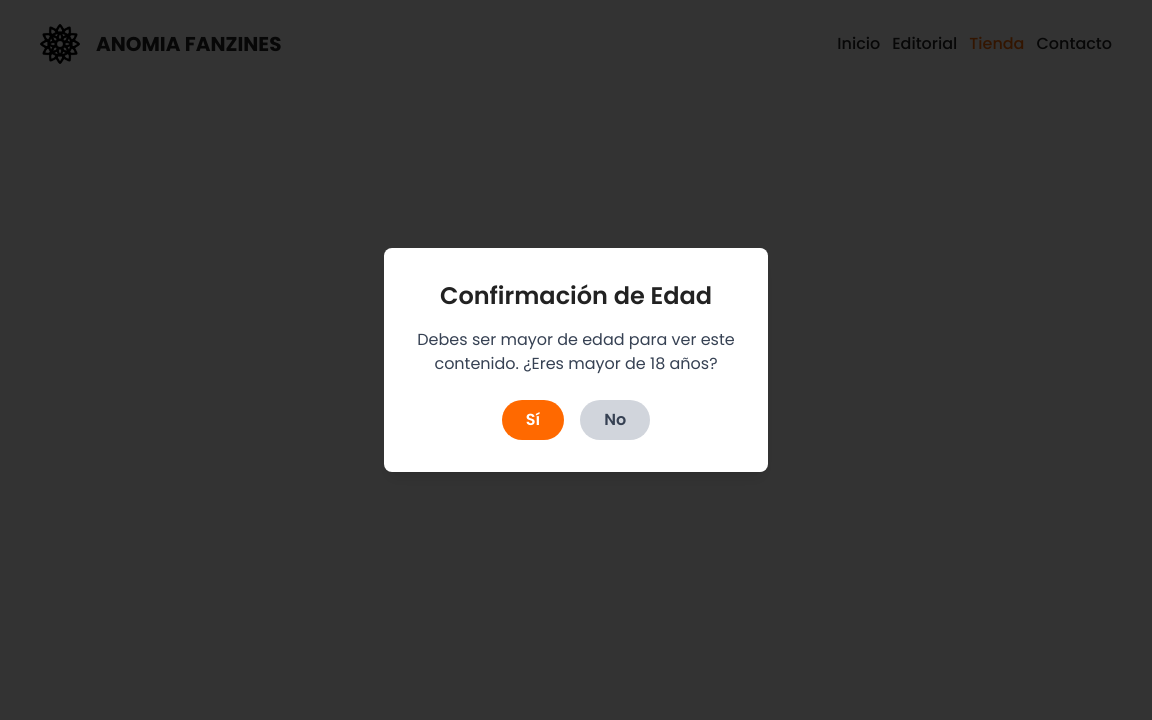
Test: enrutado › pide la verificación de edad en la tienda y muestra el catálogo al confirmar
Click the button "Sí": click(533, 420) [502,400,564,440]
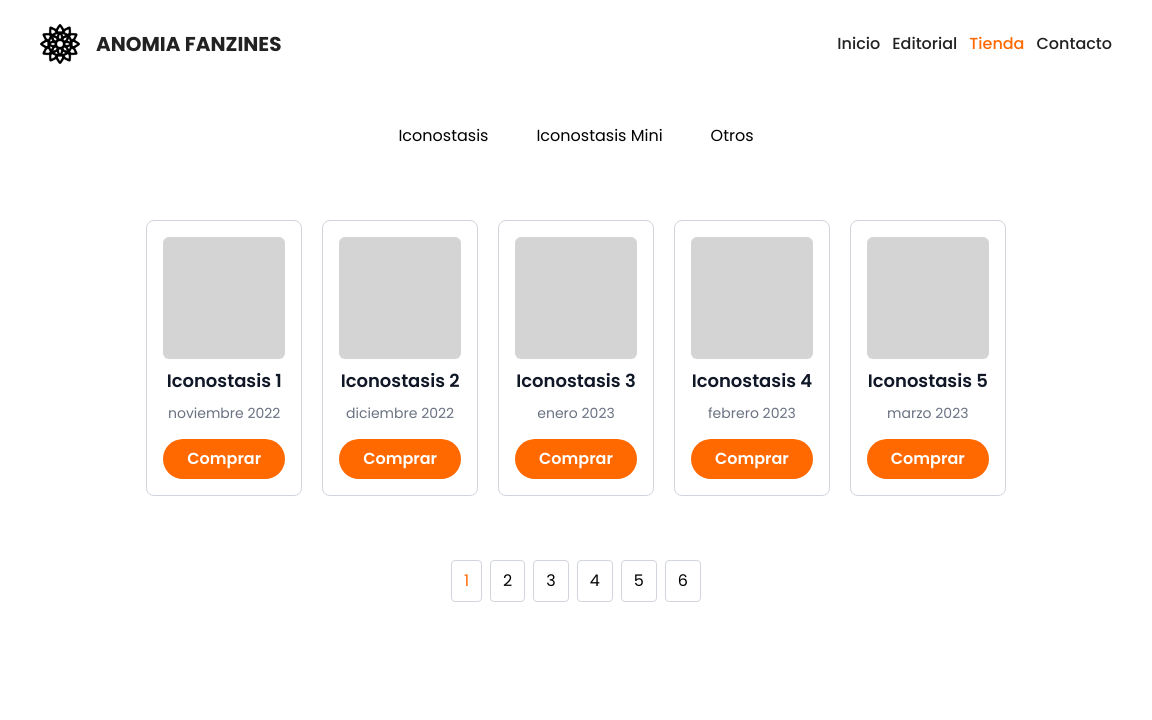
Expected: the heading "Iconostasis 1" is shown, [163,367,285,395]
